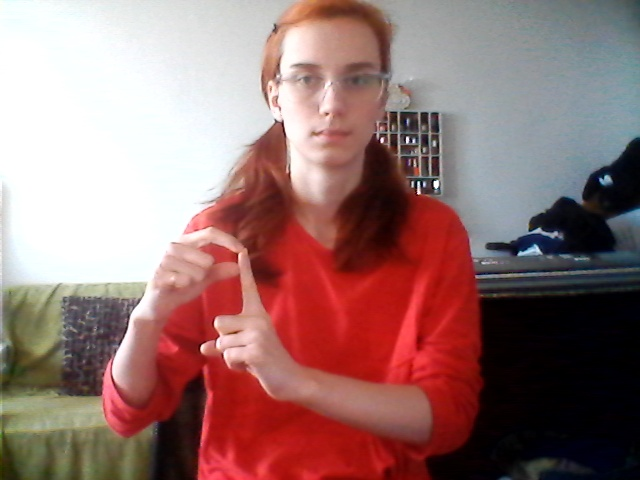p: (155, 227, 290, 407)
